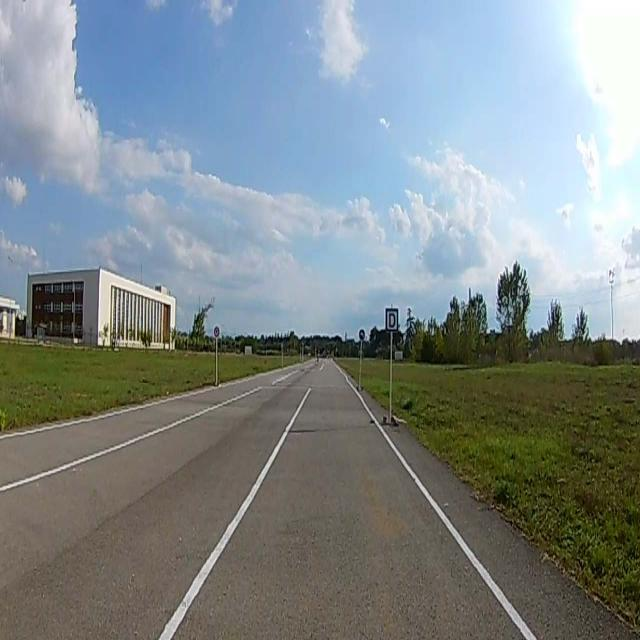durak: (386, 309, 398, 330)
